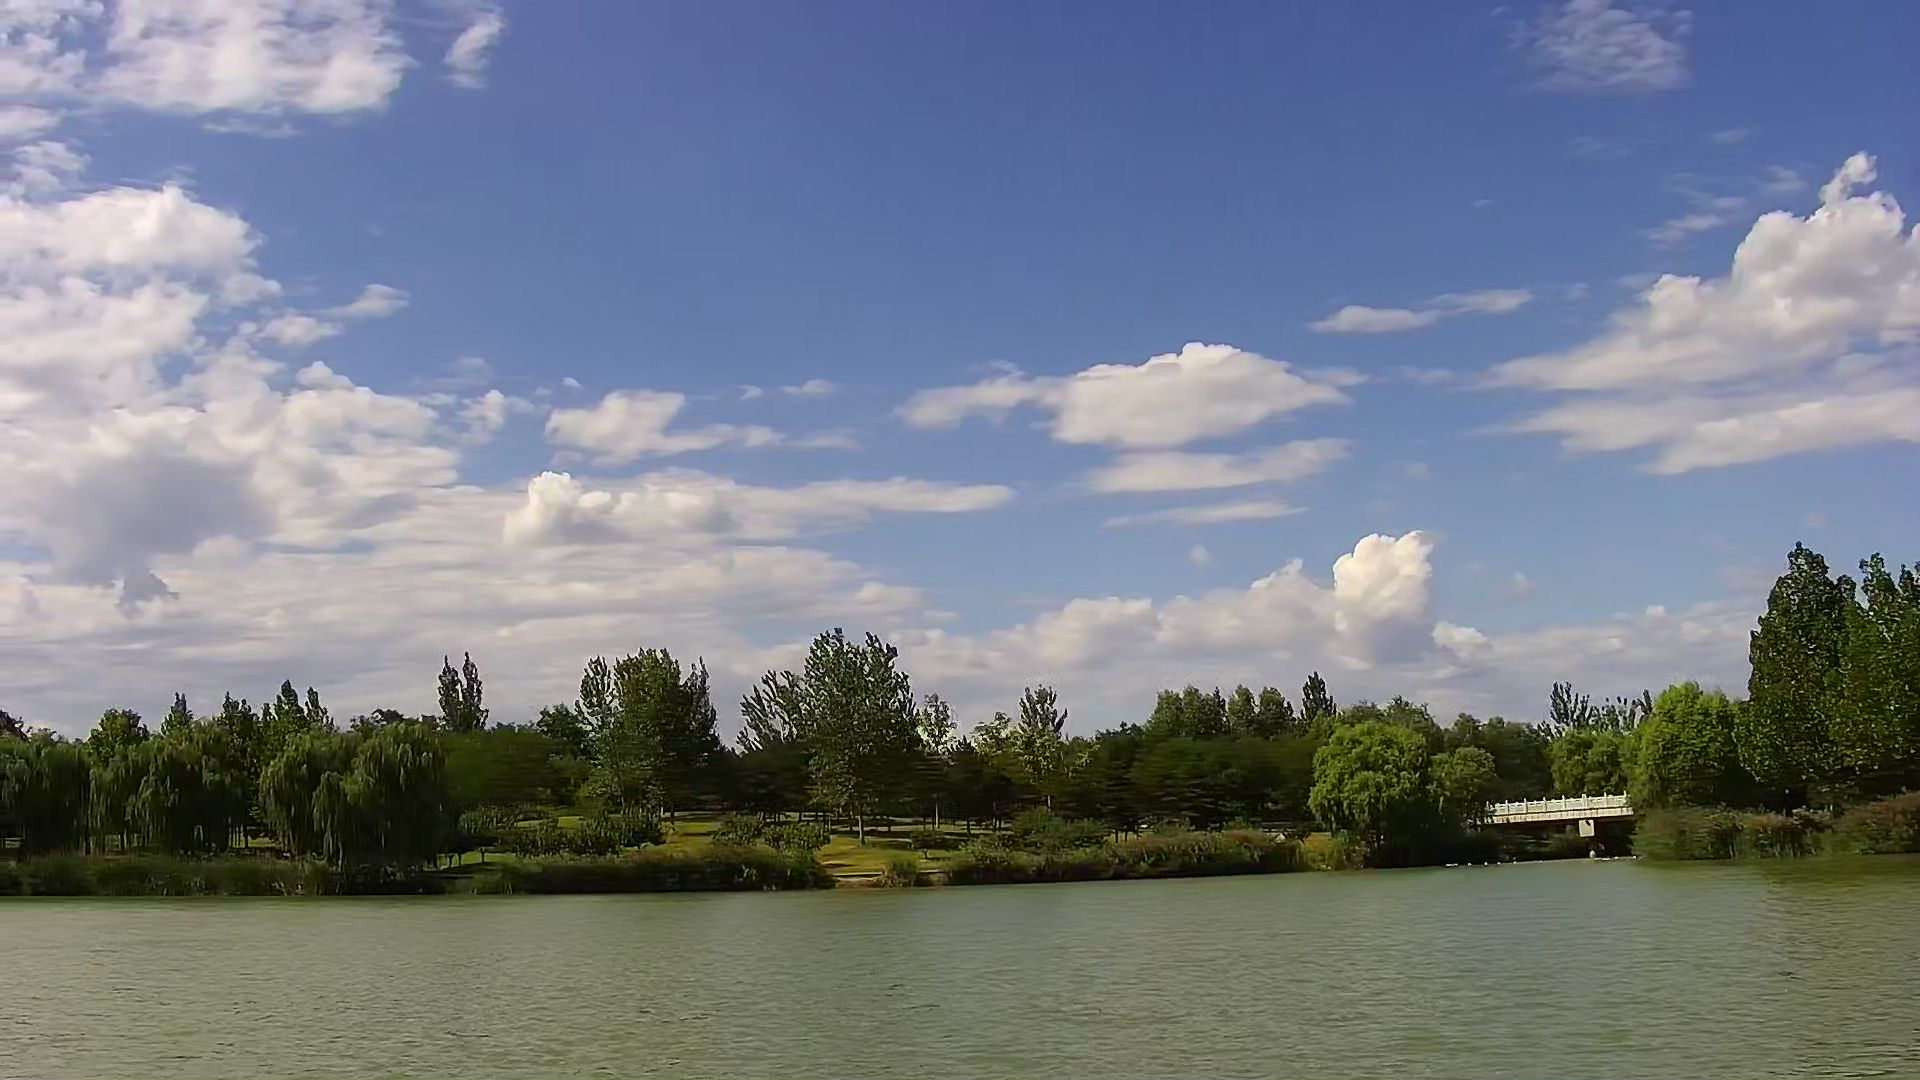bridge: (1497, 793, 1633, 861)
